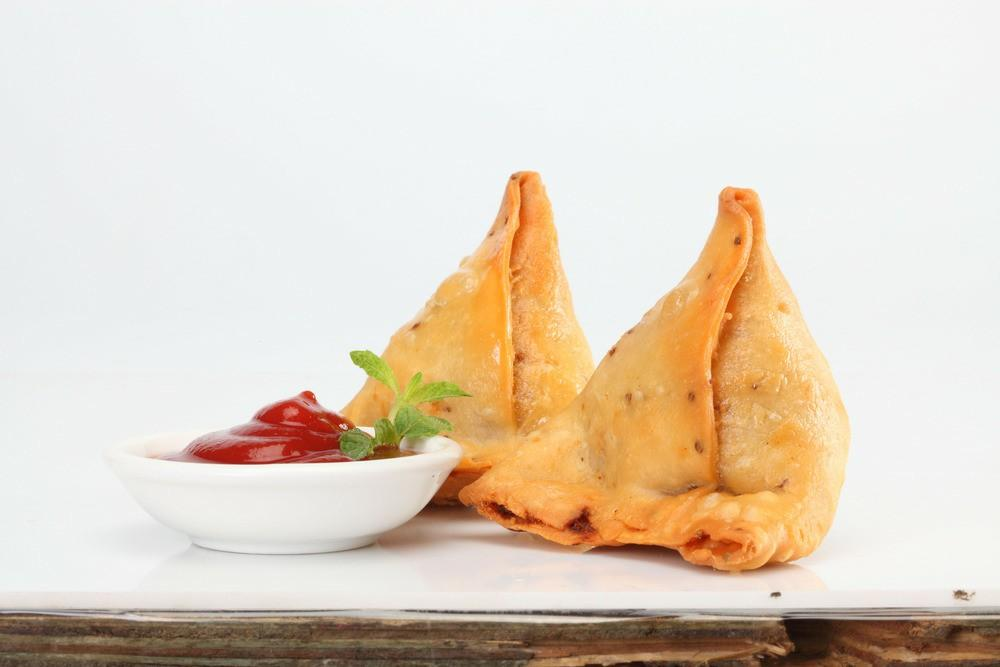Samosa: (459, 188, 847, 576), (337, 169, 596, 507)
